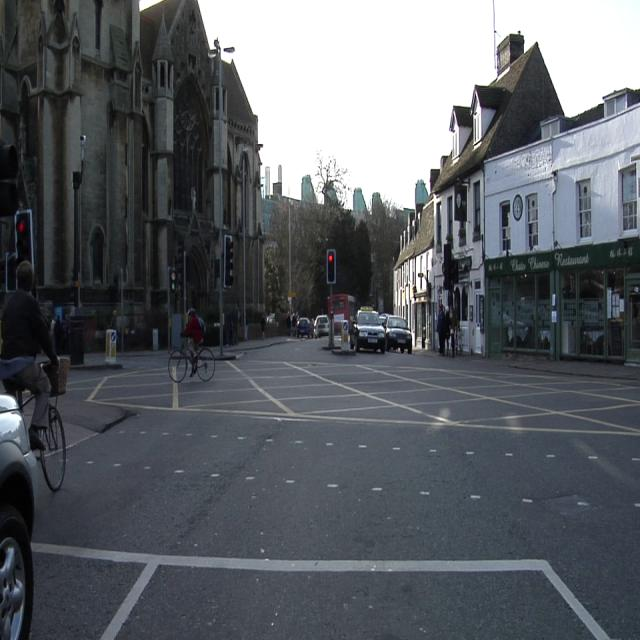Bicyclist: (0, 260, 59, 452), (169, 308, 215, 382), (41, 407, 65, 490)
Building: (394, 33, 562, 354), (485, 88, 640, 362)
Car: (351, 310, 385, 353), (386, 317, 412, 353)
Road: (31, 340, 640, 638)
